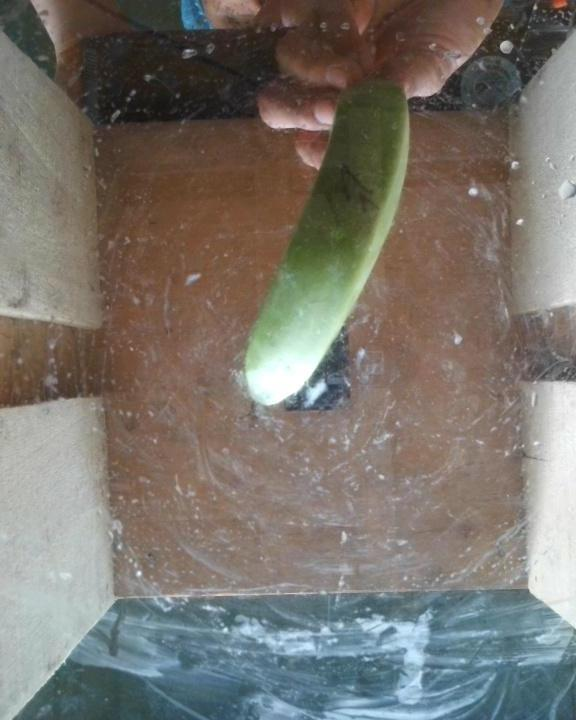CLASS B: (237, 66, 419, 416)
Class A: (320, 152, 384, 232)
